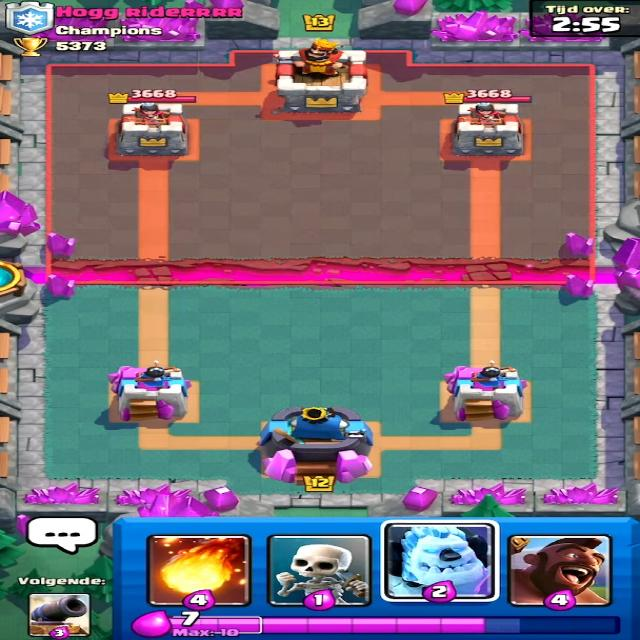Fireball_Card: (145, 535, 250, 609)
Hog_Rider_Card: (510, 535, 611, 604)
Ice_Golem_Card: (384, 522, 497, 604)
Skeleton_Card: (268, 537, 372, 606)
